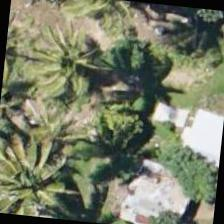Kelapa_Sawit: (13, 34, 112, 133), (0, 141, 69, 220)
